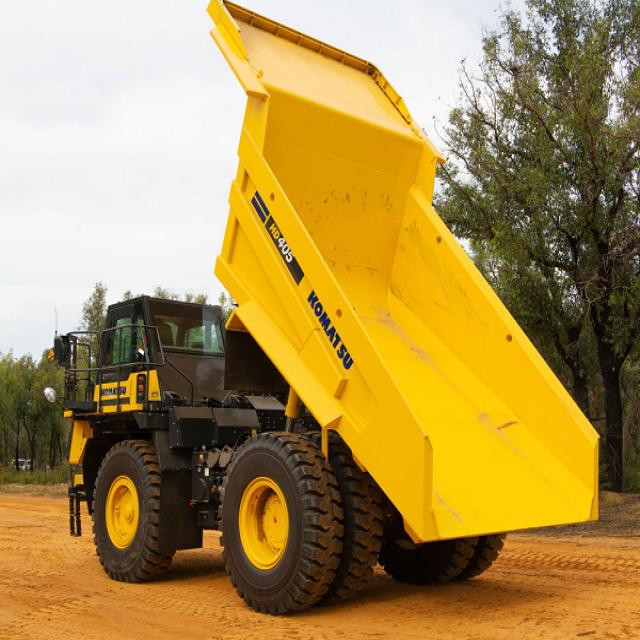dump_truck: (35, 2, 601, 610)
